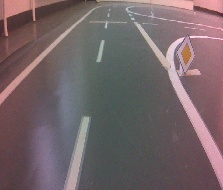priority road sign: (176, 32, 198, 75)
